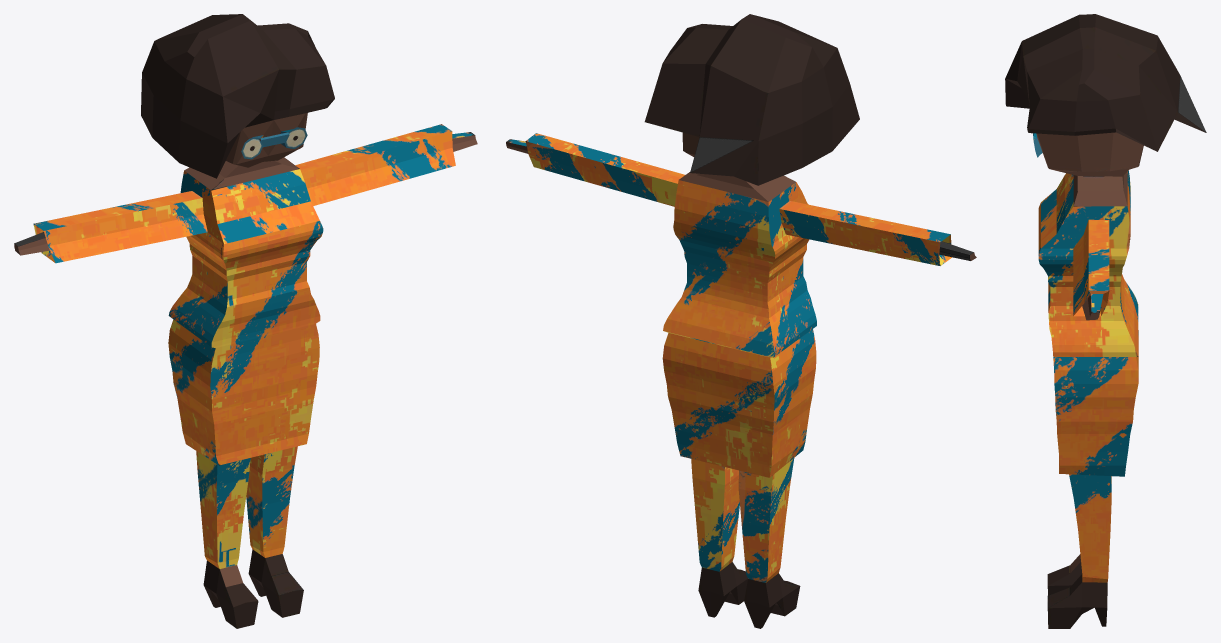
The model's file is nRaha3.fbx.
3 views of the same model, side by side, from view 1: azimuth 30°, elevation 25°; view 2: azimuth 150°, elevation 25°; view 3: azimuth 270°, elevation 25° (orthographic). The views are drawn at different scales.
Visible parts, largest first — view 1: Cube; view 2: Cube; view 3: Cube.
Part boxes in pixels (x1=…): Cube: x1=14, y1=14, x2=477, y2=628; Cube: x1=506, y1=14, x2=976, y2=628; Cube: x1=1005, y1=14, x2=1206, y2=628.
Bounding box in the file's own units: 73.86 × 91.17 × 28.45.
Materials: 1 (1 with a texture image).
